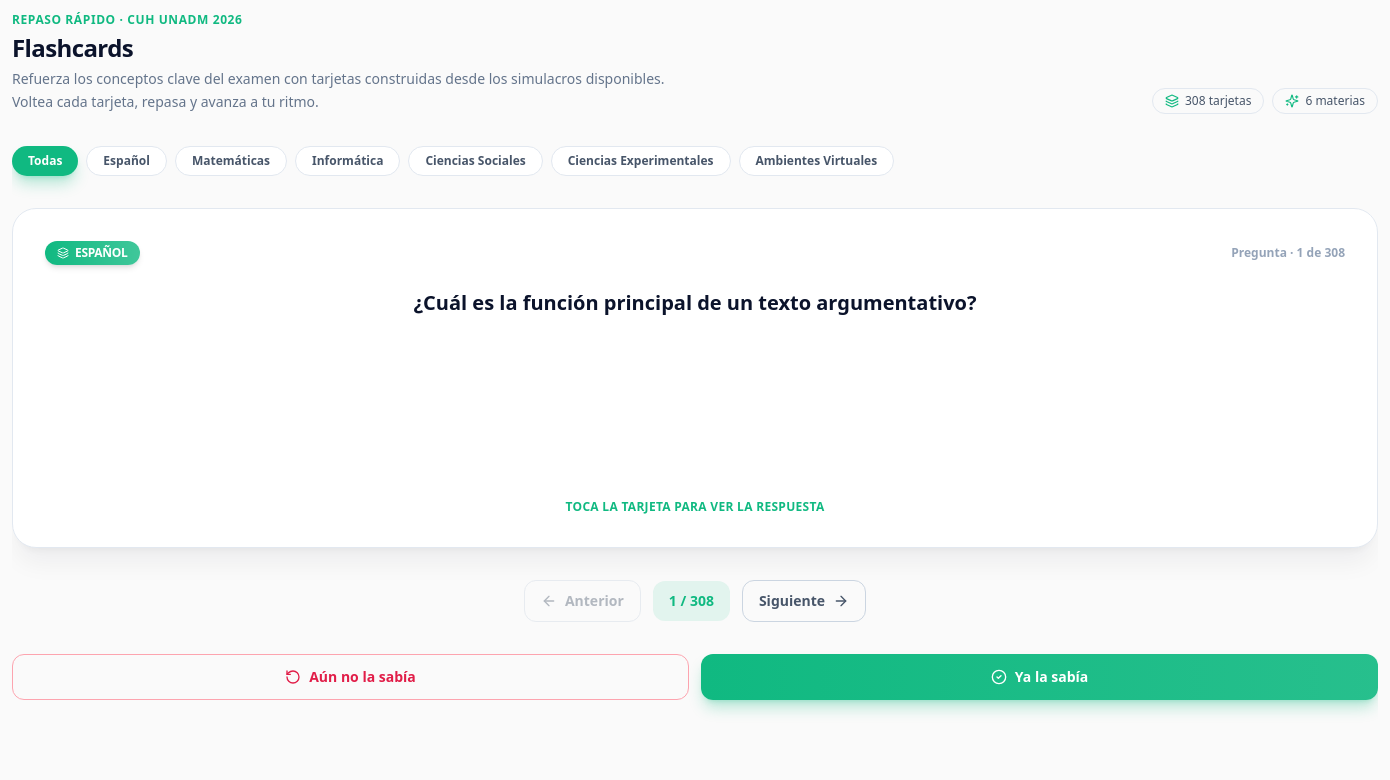
Test case: Flashcards module smoke render › navigates to the next card with the Siguiente button
The image size is (1390, 780).
Click the button "Siguiente": (804, 600) [742,580,866,622]
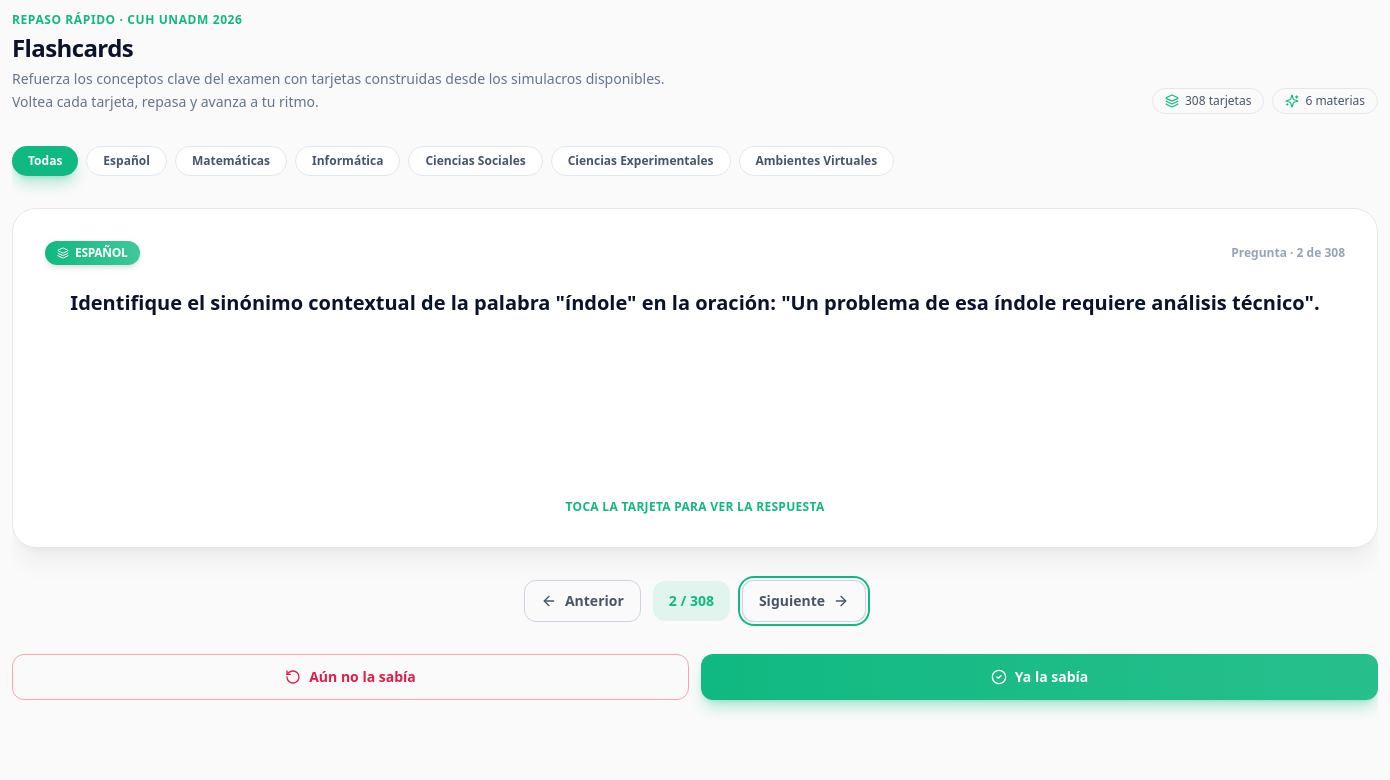
Check: the text "2 / 308" is shown, box [653,580,730,620]
